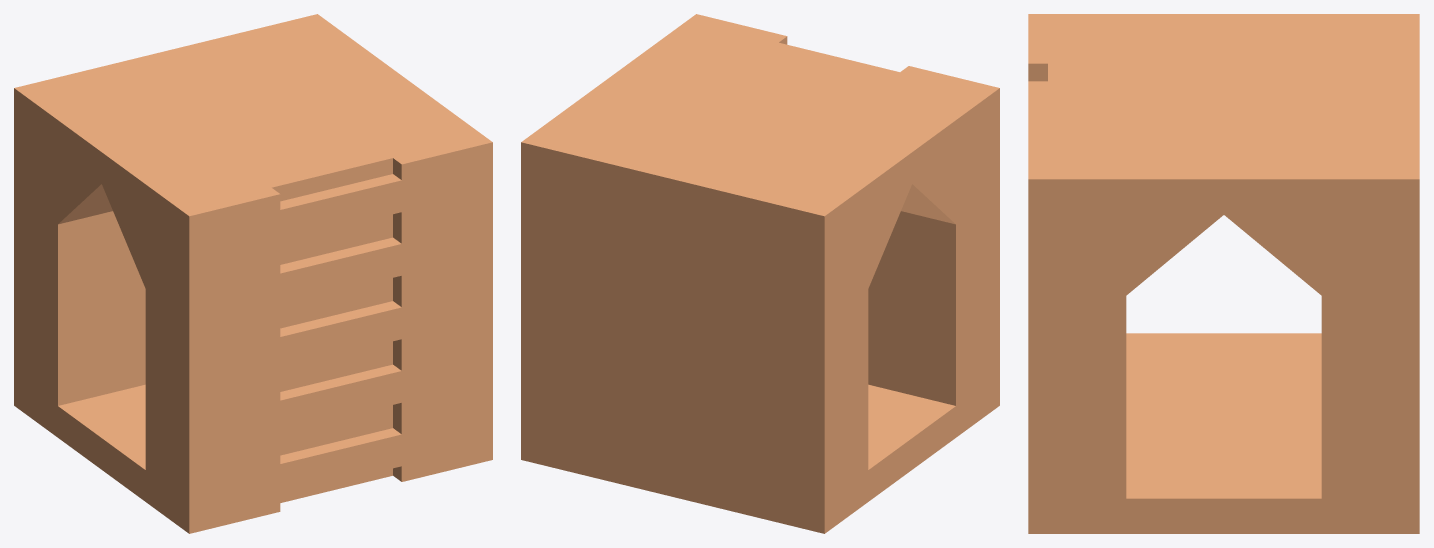
The model's file is Stairs_002.fbx.
3 views of the same model, side by side, from view 1: azimuth 30°, elevation 25°; view 2: azimuth 150°, elevation 25°; view 3: azimuth 270°, elevation 25° (orthographic). The views are drawn at different scales.
Visible parts, largest first — view 1: Stairs.002; view 2: Stairs.002; view 3: Stairs.002.
Part boxes in pixels (<box>): Stairs.002: <box>14,14,492,533</box>; Stairs.002: <box>521,14,999,533</box>; Stairs.002: <box>1028,14,1419,533</box>.
Size of the model in its own units: 100 by 100 by 100.
